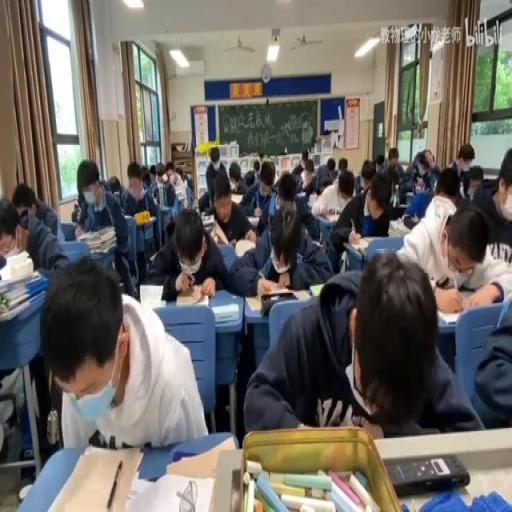calculator: (40, 442, 142, 509), (125, 471, 215, 512), (164, 435, 234, 479), (244, 290, 310, 312), (0, 287, 44, 320), (0, 266, 39, 292), (77, 224, 114, 242), (138, 282, 163, 308), (174, 288, 208, 306), (212, 302, 238, 322), (234, 236, 256, 258), (389, 216, 411, 236), (437, 307, 459, 324), (212, 222, 229, 244), (347, 238, 370, 253), (134, 214, 156, 228), (90, 246, 115, 257), (2, 246, 22, 259), (308, 282, 326, 296), (320, 212, 339, 225), (395, 202, 408, 218), (230, 192, 243, 205), (201, 213, 214, 225), (246, 215, 260, 226), (294, 189, 306, 201), (306, 194, 314, 208), (148, 250, 158, 260), (405, 192, 414, 201)
paper: (244, 259, 477, 435), (45, 253, 205, 450), (397, 184, 509, 308), (74, 156, 136, 296), (330, 169, 391, 270), (468, 286, 510, 425), (260, 166, 322, 248), (202, 168, 257, 247), (12, 180, 60, 242), (398, 145, 434, 201), (445, 145, 474, 199), (148, 230, 174, 279), (152, 164, 178, 209), (386, 159, 402, 205), (228, 161, 243, 195), (258, 164, 274, 192), (338, 171, 354, 199), (360, 162, 375, 189), (108, 174, 122, 196), (302, 174, 316, 194), (181, 170, 192, 194), (198, 190, 210, 212), (468, 165, 484, 181), (243, 168, 256, 186), (70, 202, 81, 223), (139, 165, 149, 185), (374, 154, 385, 172), (388, 146, 398, 165), (424, 162, 435, 179), (210, 146, 219, 166), (174, 165, 184, 182), (291, 162, 303, 176), (318, 182, 328, 195), (338, 156, 347, 170), (326, 156, 335, 170), (149, 162, 156, 179), (157, 165, 164, 179), (301, 149, 308, 162), (253, 158, 259, 173), (166, 162, 172, 175)
person: (384, 452, 470, 495)
